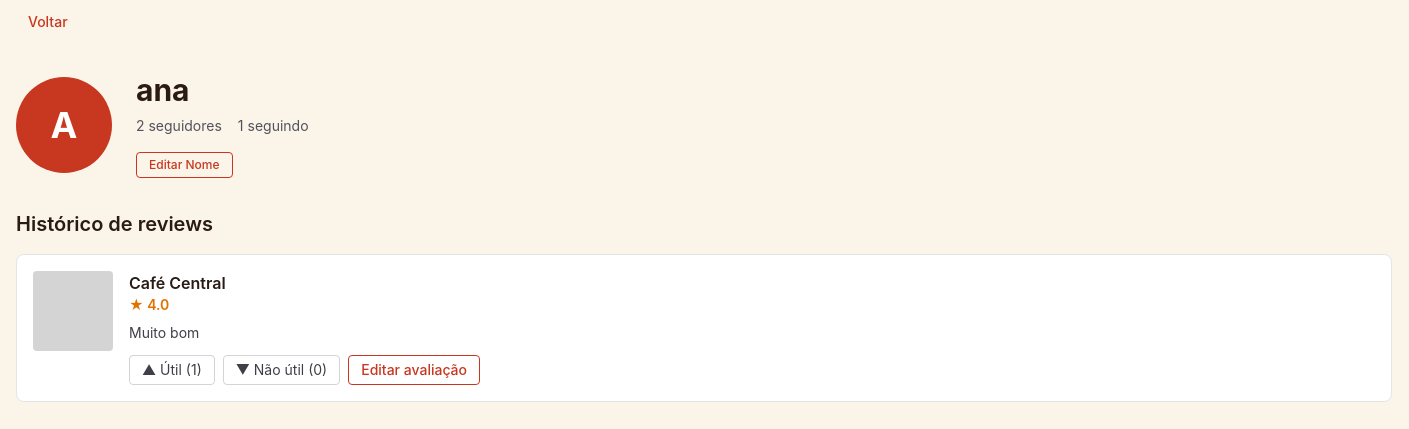
Test case: perfil e histórico de avaliações › fecha a edição sem pedido se o nome não mudou e mostra erro do servidor
Click the button "Editar Nome" at (184, 165), box [136,152,232,178]
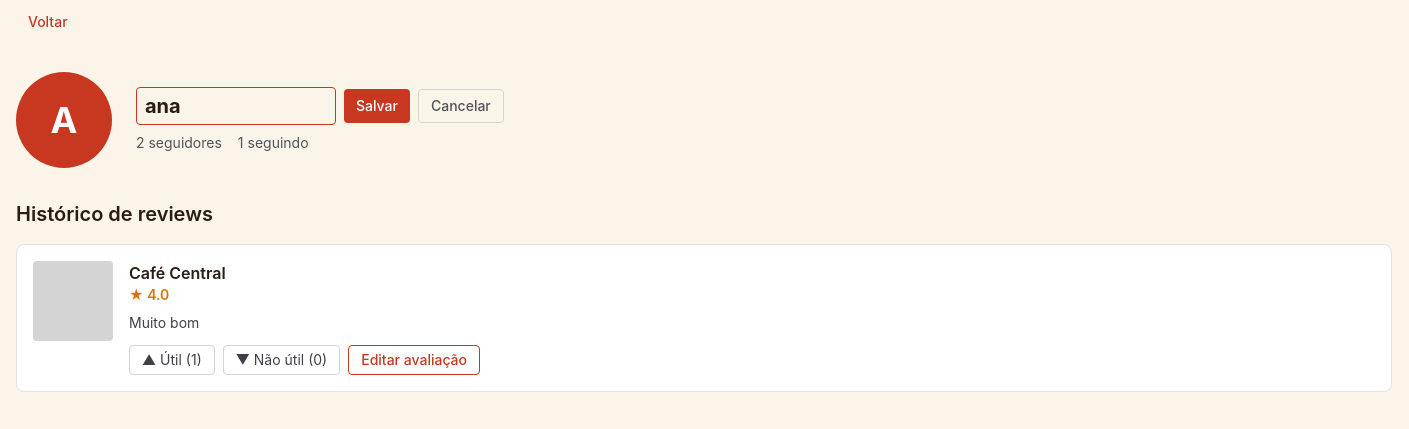
Click the button "Salvar" at (377, 106), box [344,89,410,123]
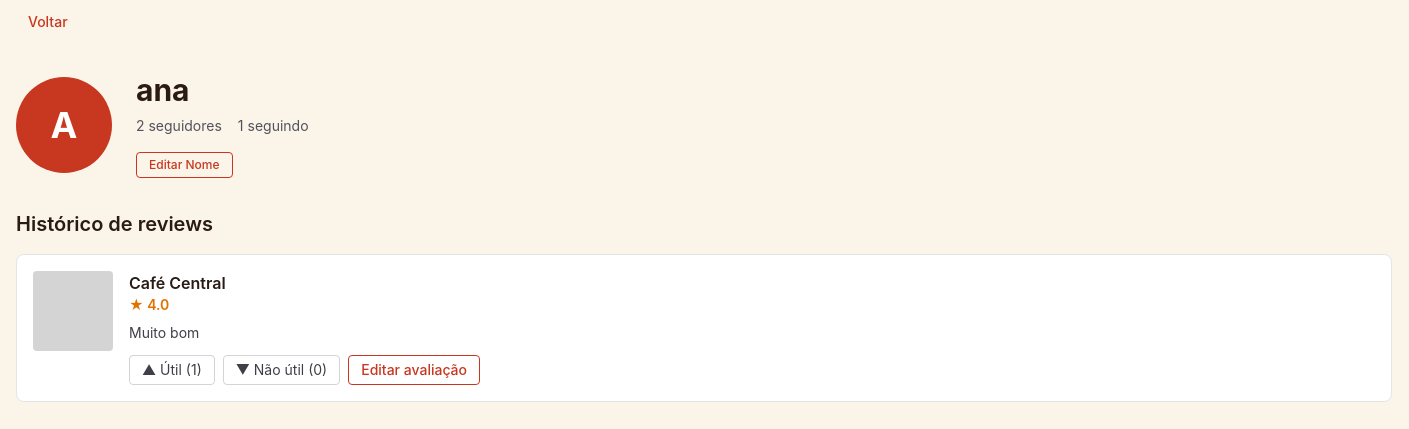
Now the heading "ana" is shown, box [136,72,190,108]
Click the button "Editar Nome" at (184, 165), box [136,152,232,178]
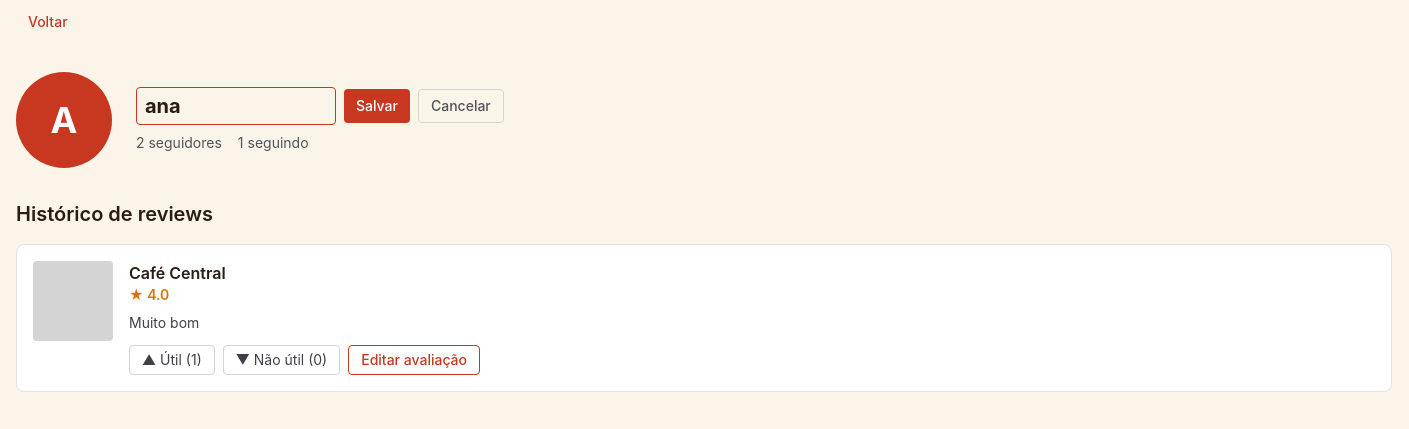
Replace the text in the field with "novo nome" at (236, 106), box [136,87,336,125]
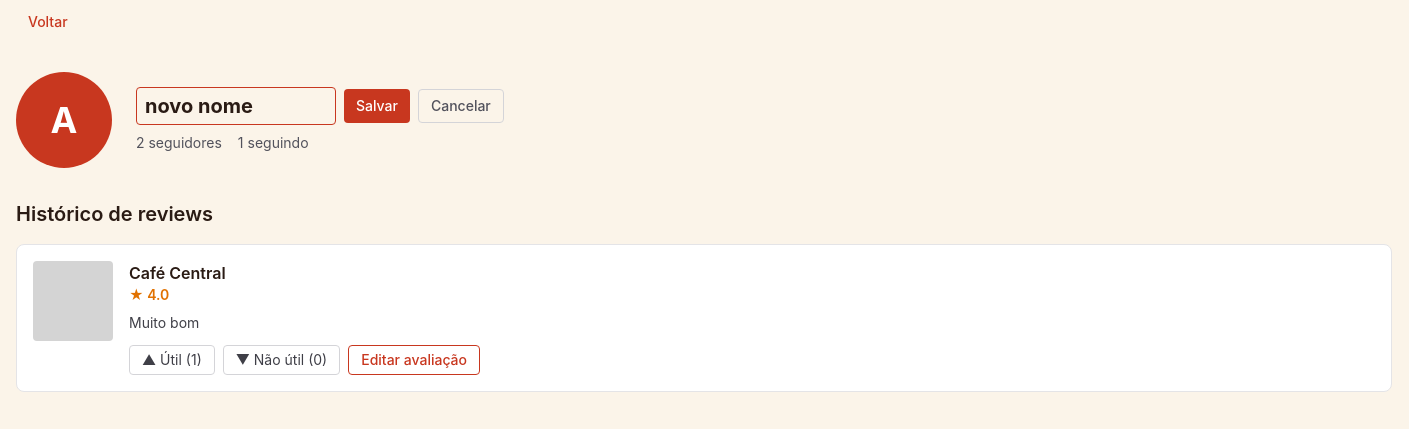
Click the button "Salvar" at (377, 106), box [344,89,410,123]
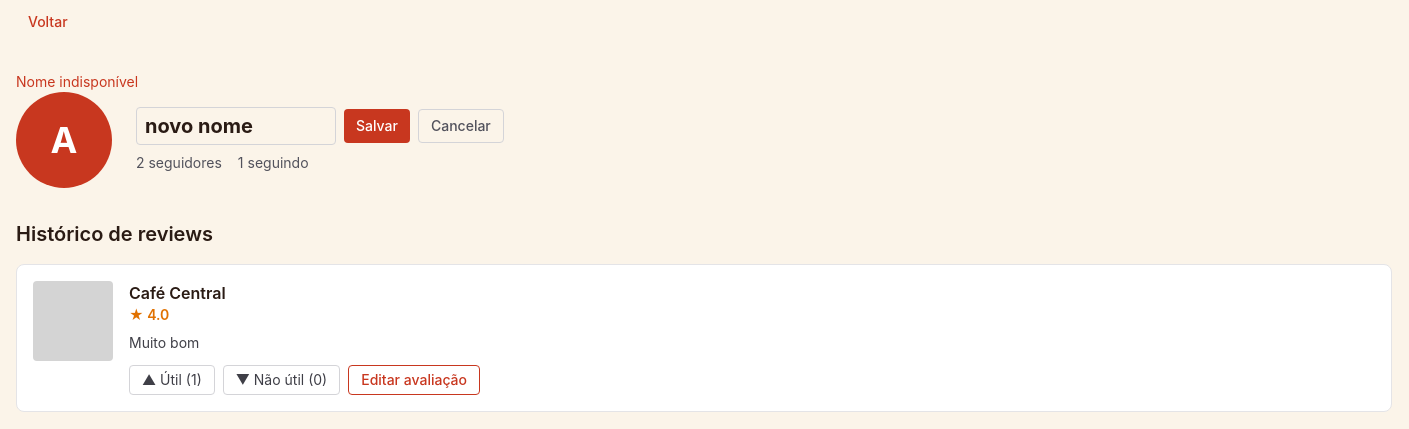
Now the text "Nome indisponível" is shown, box [16,73,138,90]
